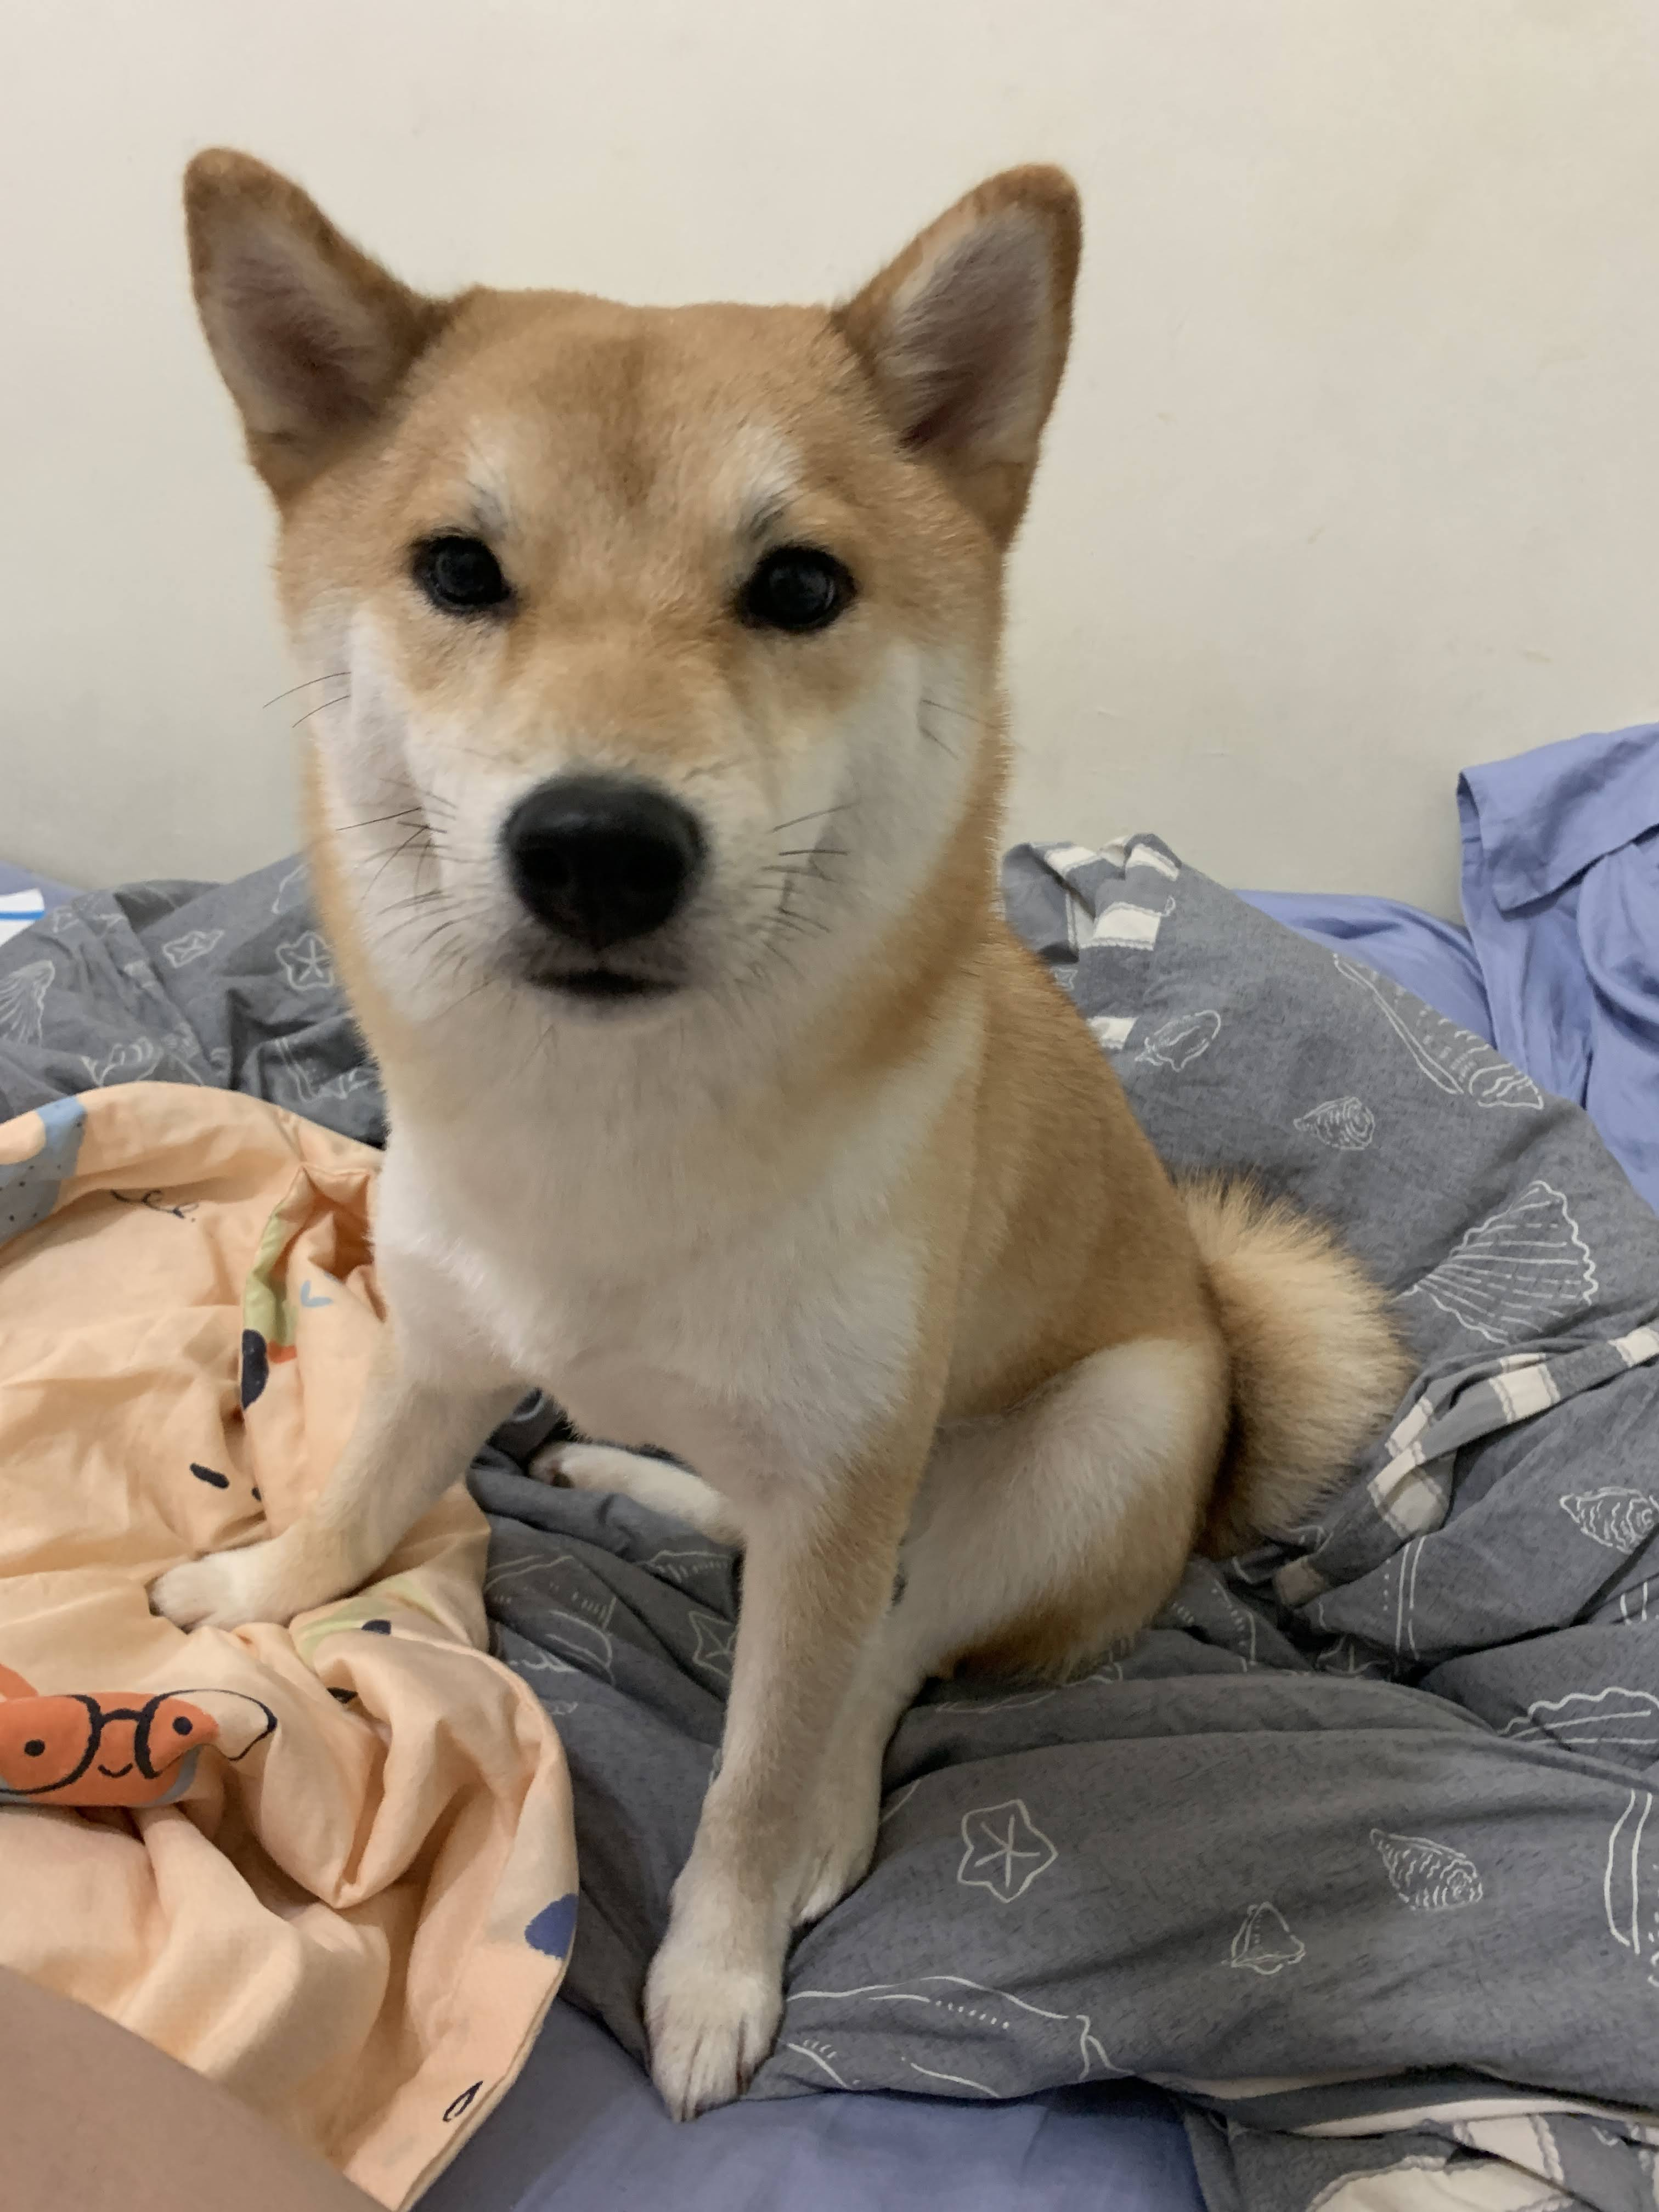Sit down: (139, 70, 1377, 2167)
